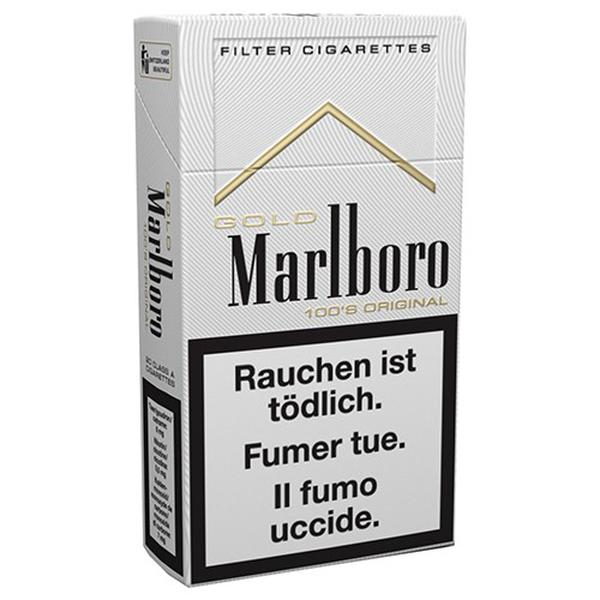marlboro_gold: (178, 24, 453, 544)
